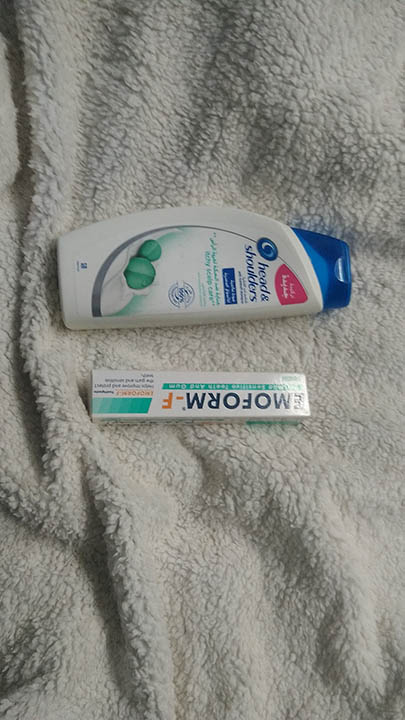Toothpaste-F 1.5$: (83, 360, 325, 431)
shampoo-green 4.5$: (43, 207, 362, 338)
